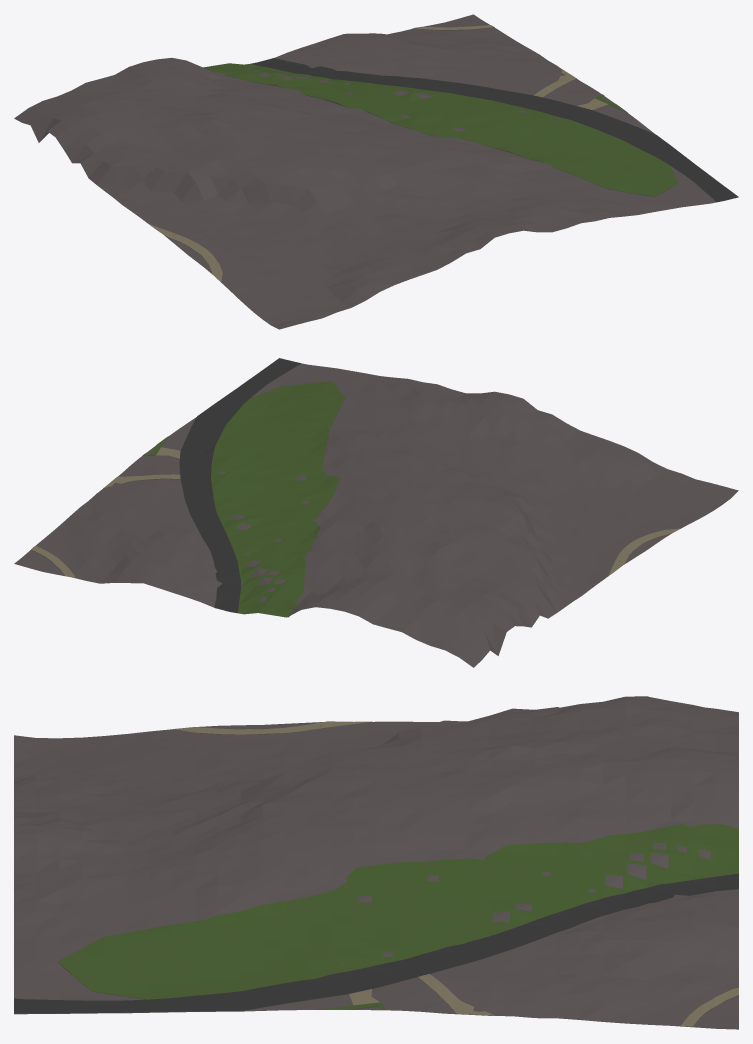
3 renders of one model, top to bottom at view 1: azimuth 30°, elevation 25°; view 2: azimuth 150°, elevation 25°; view 3: azimuth 270°, elevation 25°, orthographic. The views are drawn at different scales.
Parts seen in each view (by area): view 1: c_m11_m18; view 2: c_m11_m18; view 3: c_m11_m18.
Boxes of the visible parts, x1,y1,x2,y2 form: c_m11_m18: (14,14,738,329); c_m11_m18: (14,358,738,667); c_m11_m18: (14,696,738,1029).
Bounding box in the file's own units: 128 × 13.5 × 128.
